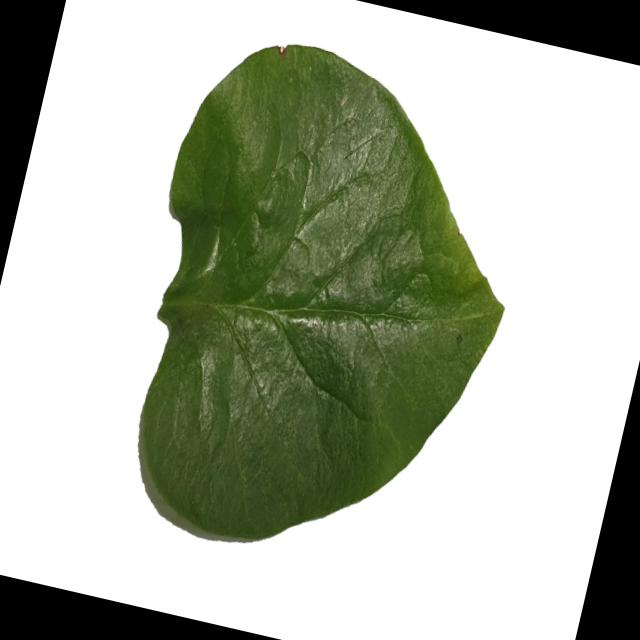Medicinal-Basale: (92, 22, 552, 590)
